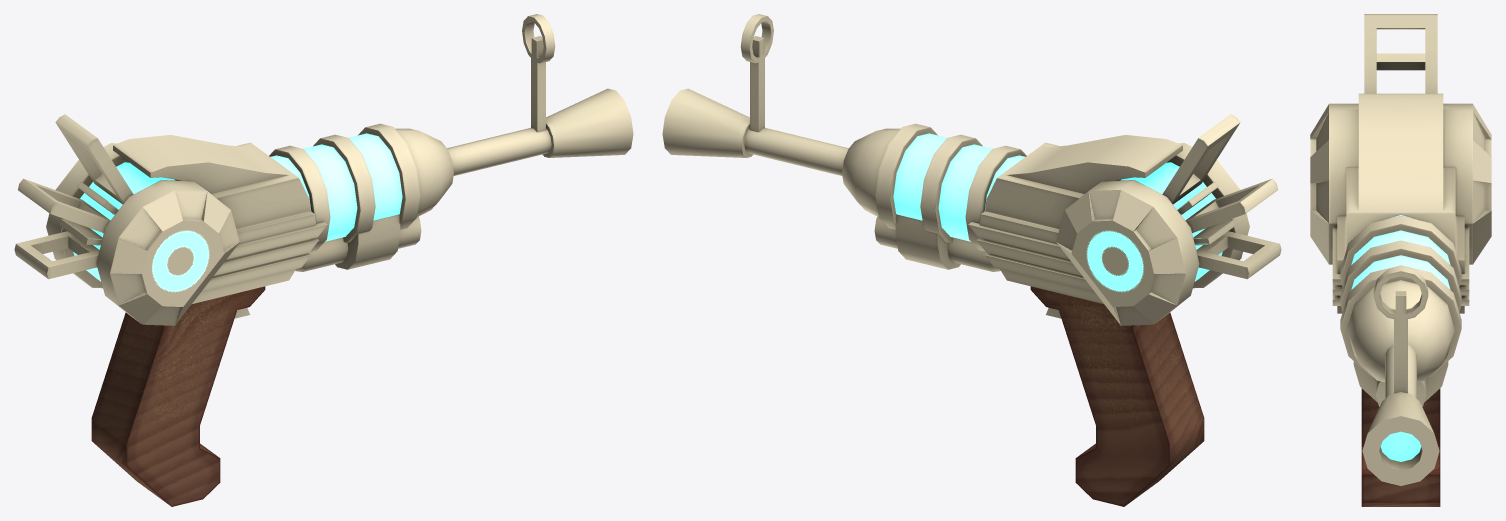
File: weapon_12_3.gltf
3 views of the same model, side by side, from view 1: azimuth 30°, elevation 25°; view 2: azimuth 150°, elevation 25°; view 3: azimuth 270°, elevation 25° (orthographic). The views are drawn at different scales.
Visible parts, largest first — view 1: Cylinder.005_Cylinder.007; view 2: Cylinder.005_Cylinder.007; view 3: Cylinder.005_Cylinder.007.
Boxes of the visible parts, x1,y1,x2,y2 form: Cylinder.005_Cylinder.007: (14,14,633,506); Cylinder.005_Cylinder.007: (662,14,1281,506); Cylinder.005_Cylinder.007: (1310,14,1491,506).
Bounding box in the file's own units: 3.11 × 1.96 × 0.7393.
Materials: 1 (1 with a texture image).
